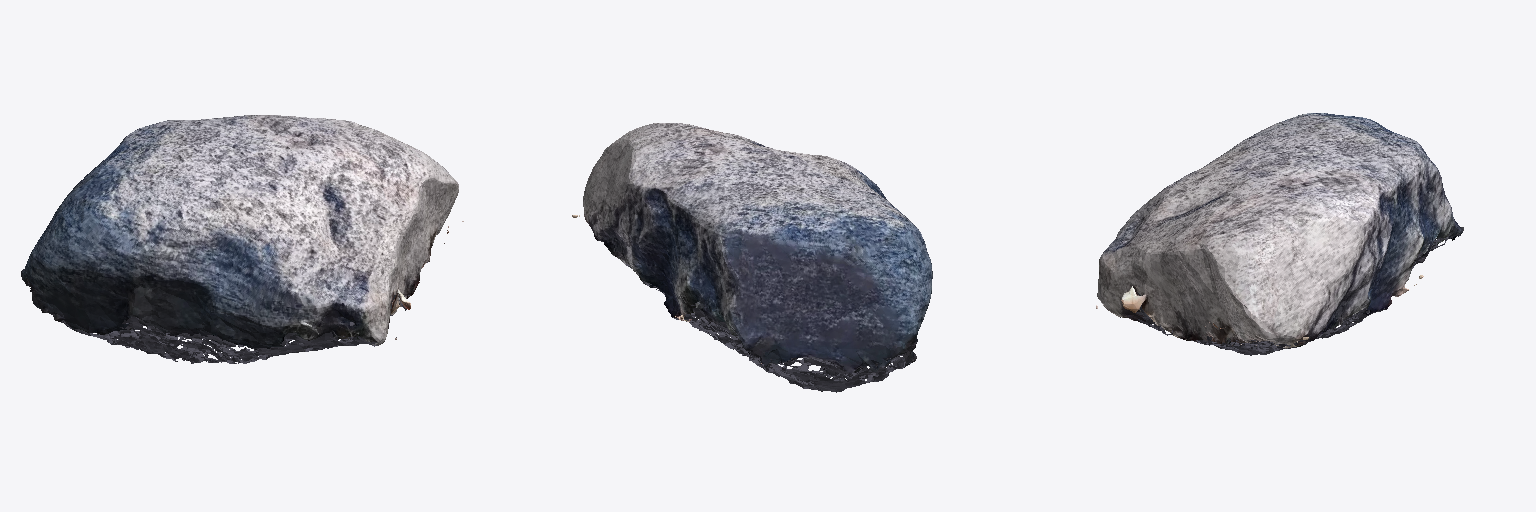
3 views of the same model, side by side, from view 1: azimuth 30°, elevation 25°; view 2: azimuth 150°, elevation 25°; view 3: azimuth 270°, elevation 25° (orthographic).
Bounding box in the file's own units: 1.51 × 0.7647 × 1.28.
Materials: 3 (3 with a texture image).